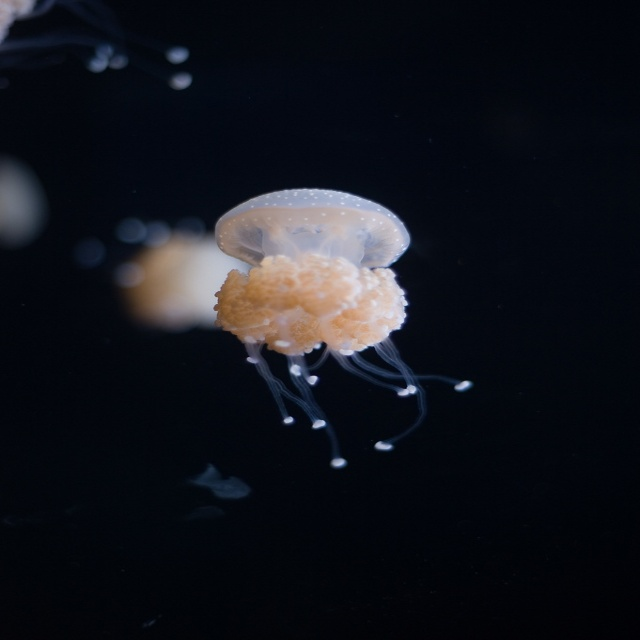Jellyfish: (197, 187, 432, 461)
